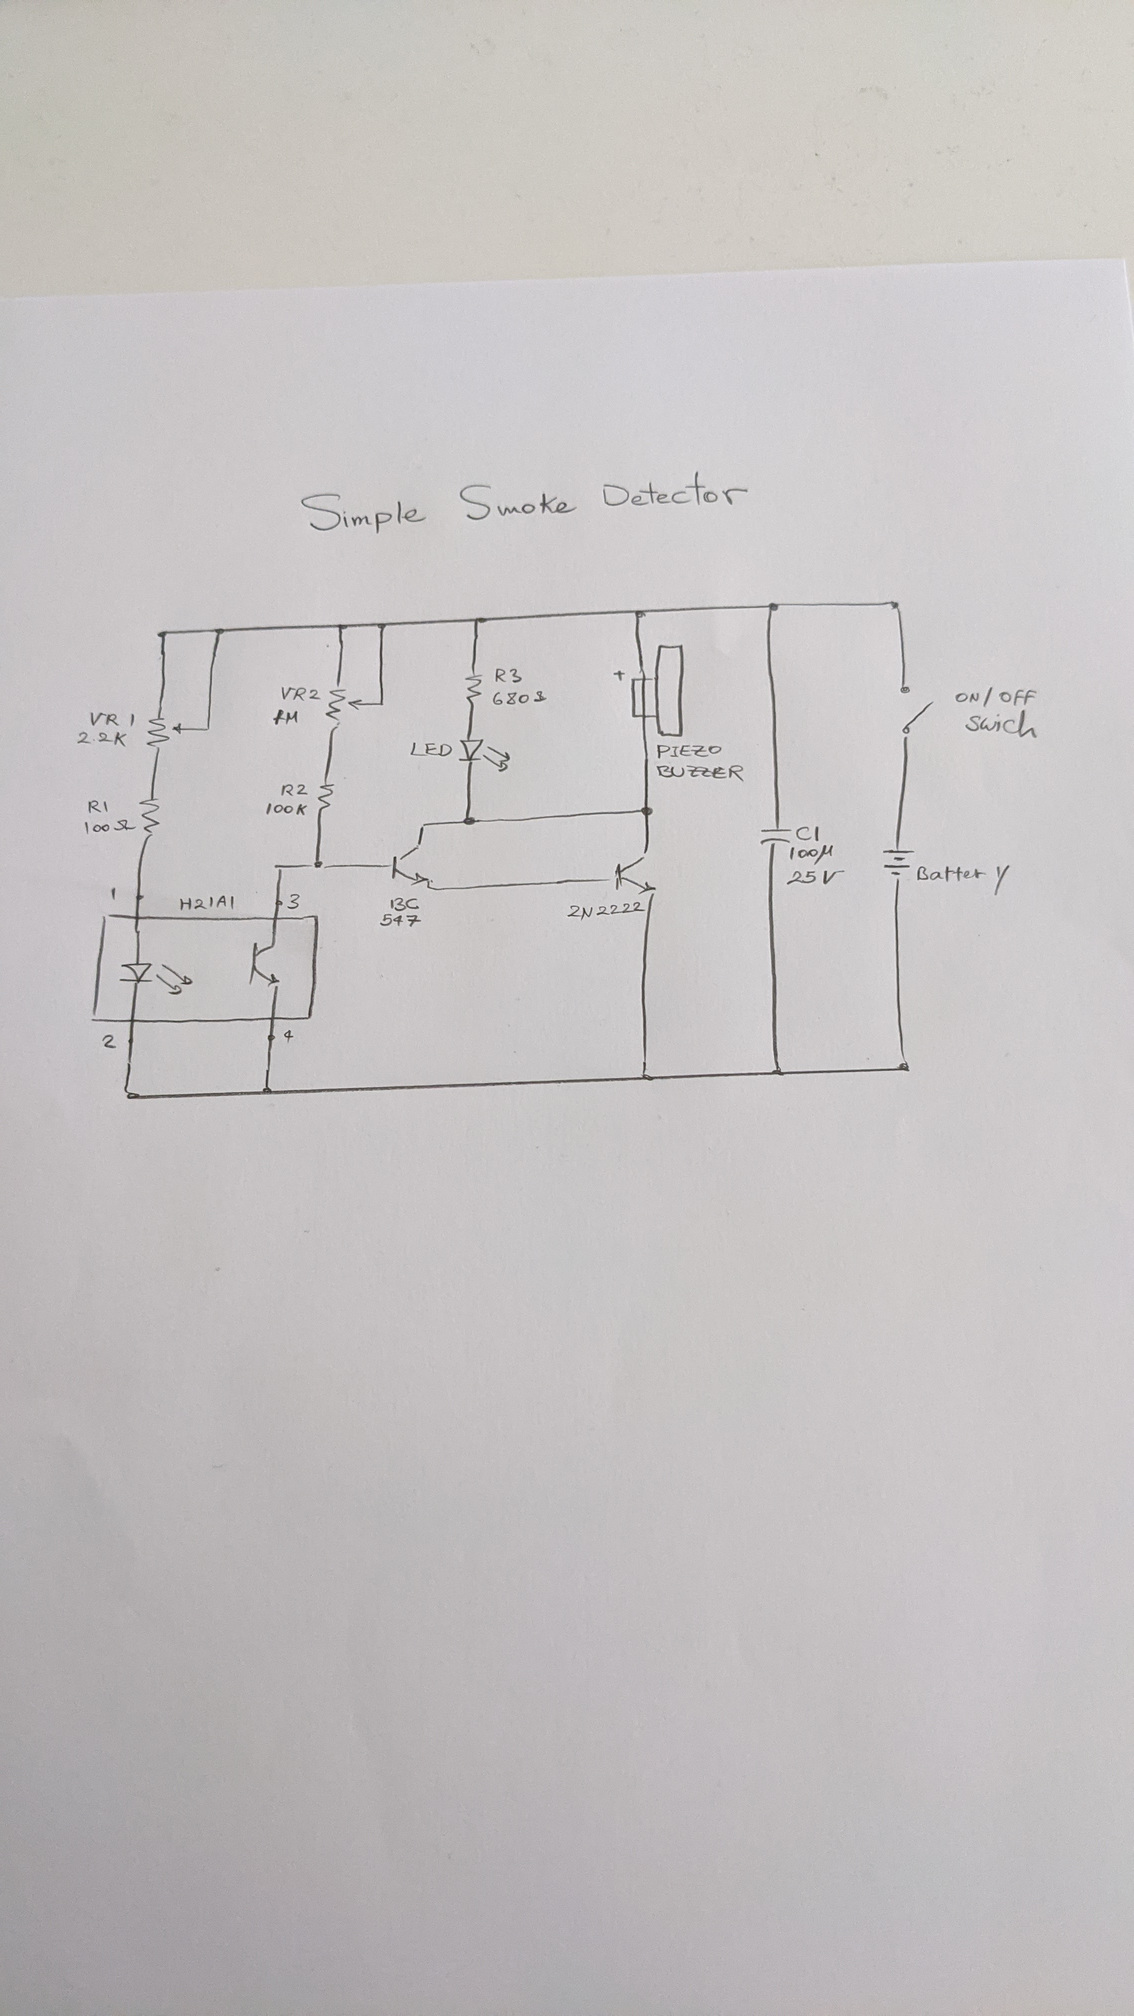capacitor.unpolarized: (757, 825, 793, 847)
diode.light_emitting: (457, 735, 512, 775)
integrated_circuit: (89, 911, 321, 1026)
junction: (893, 1052, 912, 1074), (120, 1086, 140, 1104), (638, 1069, 656, 1086), (309, 858, 330, 872), (888, 597, 904, 612), (461, 814, 479, 828), (768, 1065, 786, 1079), (259, 1086, 277, 1099), (637, 804, 655, 818), (631, 608, 649, 620), (212, 626, 227, 638), (764, 601, 780, 613), (335, 620, 349, 633), (374, 620, 389, 631), (271, 863, 287, 874), (155, 629, 169, 640), (471, 615, 483, 626), (204, 724, 213, 734), (377, 701, 388, 709), (418, 821, 426, 831), (426, 885, 433, 892)
optocoupler: (116, 939, 284, 997)
resistor: (137, 795, 162, 839), (314, 778, 336, 817), (462, 669, 485, 705)
resistor.adjustable: (323, 683, 366, 734), (145, 714, 184, 753)
speaker: (612, 642, 687, 738)
switch: (899, 683, 936, 741)
text: (299, 468, 750, 537), (914, 861, 1014, 897), (964, 708, 1040, 742), (953, 684, 1038, 709), (655, 762, 746, 784), (564, 900, 647, 922), (654, 741, 723, 760), (176, 893, 238, 912), (786, 843, 836, 867), (785, 868, 845, 888), (76, 728, 130, 749), (490, 690, 548, 708), (408, 739, 454, 760), (89, 709, 137, 728), (82, 818, 136, 835), (280, 684, 323, 703), (264, 800, 307, 818), (379, 912, 424, 929), (270, 708, 302, 727), (793, 824, 822, 845), (493, 666, 523, 685), (388, 894, 420, 912), (86, 798, 112, 816), (280, 782, 310, 798), (284, 890, 305, 912), (100, 1032, 119, 1051), (107, 883, 120, 901), (282, 1027, 295, 1045)
transistor: (604, 847, 658, 897), (389, 840, 431, 885)
voltage.dc: (881, 843, 917, 882)
